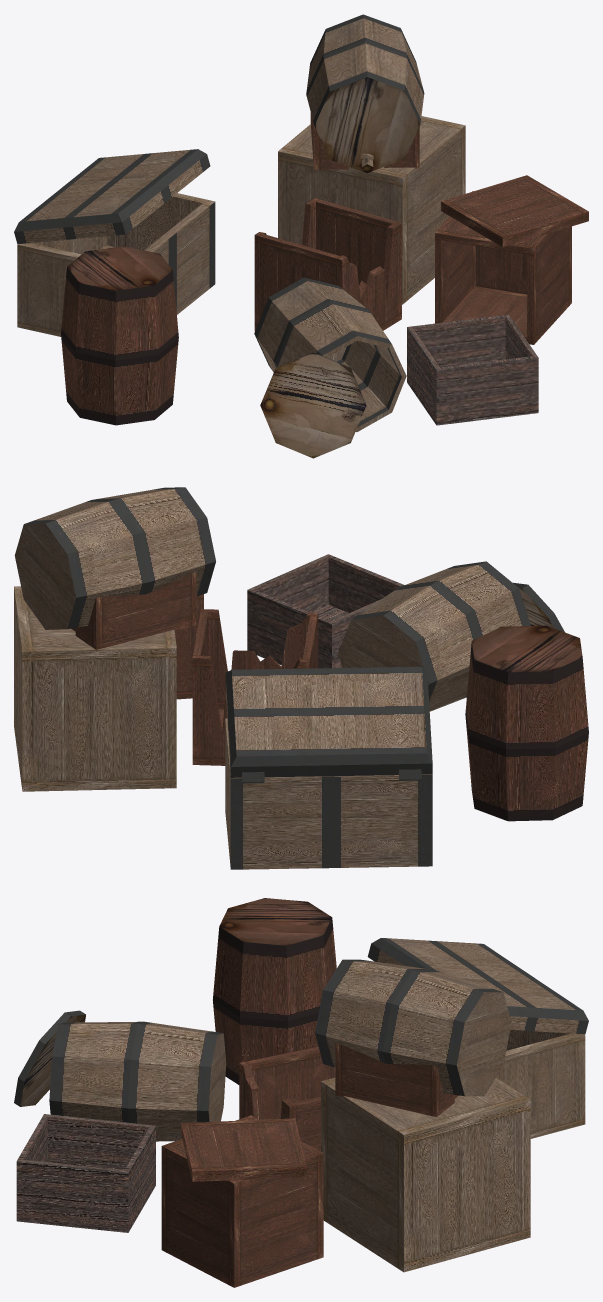
Rendered from Crates_and_barrels-transformed.glb.
3 renders of one model, top to bottom at view 1: azimuth 30°, elevation 25°; view 2: azimuth 150°, elevation 25°; view 3: azimuth 270°, elevation 25°, orthographic. The views are drawn at different scales.
Parts seen in each view (by area): view 1: Crate_1, Barrel_1; view 2: Crate_1, Barrel_1; view 3: Crate_1, Barrel_1.
Boxes of the visible parts, left/top/right/bottom form: Crate_1: left=14, top=14, right=538, bottom=458; Barrel_1: left=61, top=112, right=588, bottom=425; Crate_1: left=14, top=487, right=564, bottom=869; Barrel_1: left=71, top=572, right=588, bottom=821; Crate_1: left=14, top=938, right=588, bottom=1272; Barrel_1: left=161, top=898, right=458, bottom=1287.
Size of the model in its own units: 2.9 by 1.39 by 2.76.
2 materials, 2 textured.
